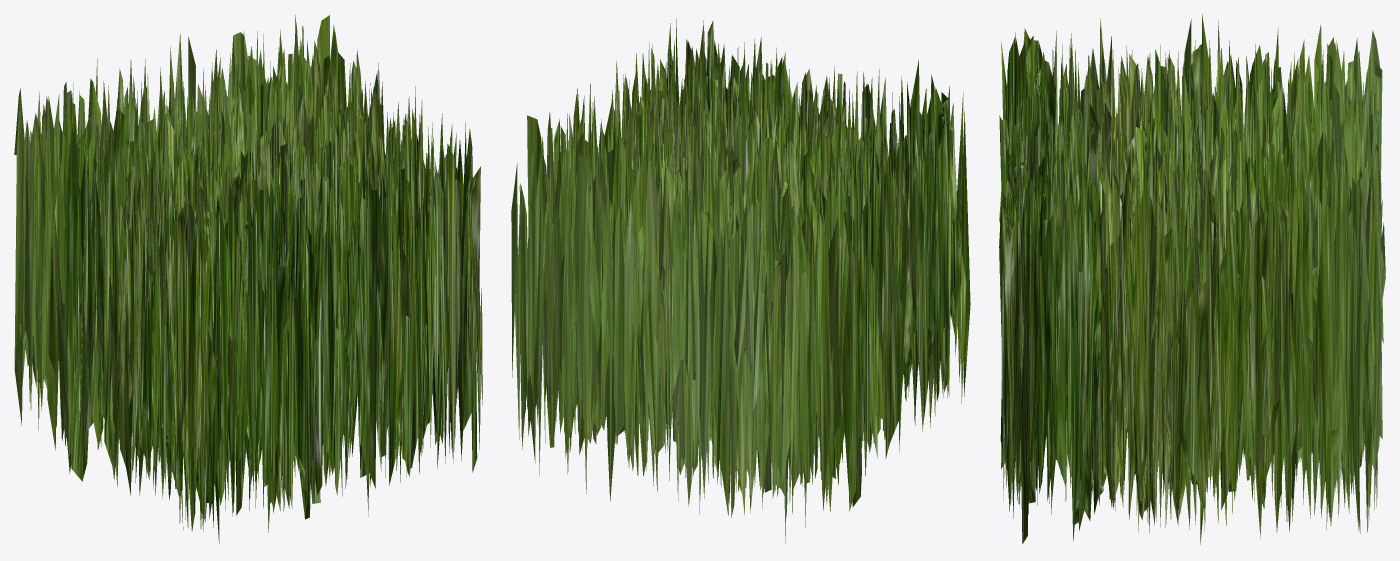
The model's file is SeaGrassFINAL.glb.
The picture shows the model from 3 angles, left to right: view 1: azimuth 30°, elevation 25°; view 2: azimuth 150°, elevation 25°; view 3: azimuth 270°, elevation 25°; orthographic projection. The views are drawn at different scales.
Parts seen in each view (by area): view 1: Plane; view 2: Plane; view 3: Plane.
Part boxes in pixels (<box>): Plane: <box>14,15,482,543</box>; Plane: <box>511,18,970,543</box>; Plane: <box>999,14,1385,544</box>.
Size of the model in its own units: 1.35 by 1.66 by 1.36.
Materials: 1 (1 with a texture image).
